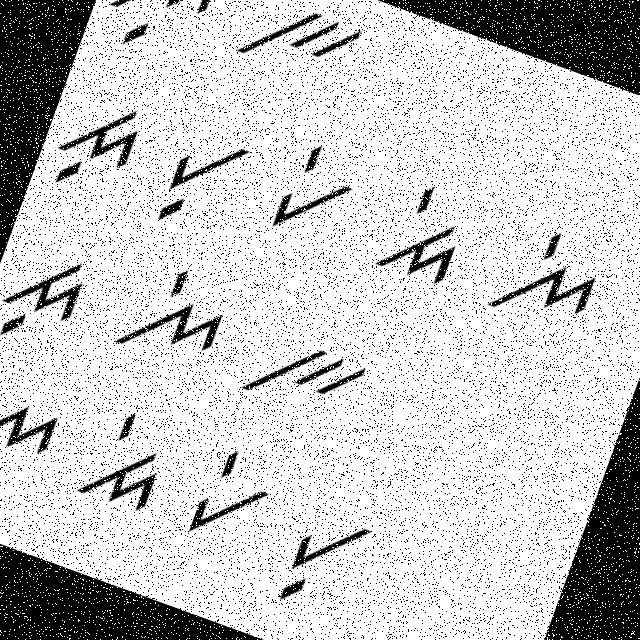de: (368, 168, 482, 300), (72, 402, 182, 526)
du: (42, 82, 152, 208), (0, 226, 98, 360)
ne: (105, 248, 242, 382), (483, 207, 615, 341)
nu: (88, 0, 230, 78), (0, 377, 68, 515)
pe: (250, 124, 372, 252), (178, 438, 282, 562)
pu: (262, 493, 382, 628), (146, 111, 256, 243)
